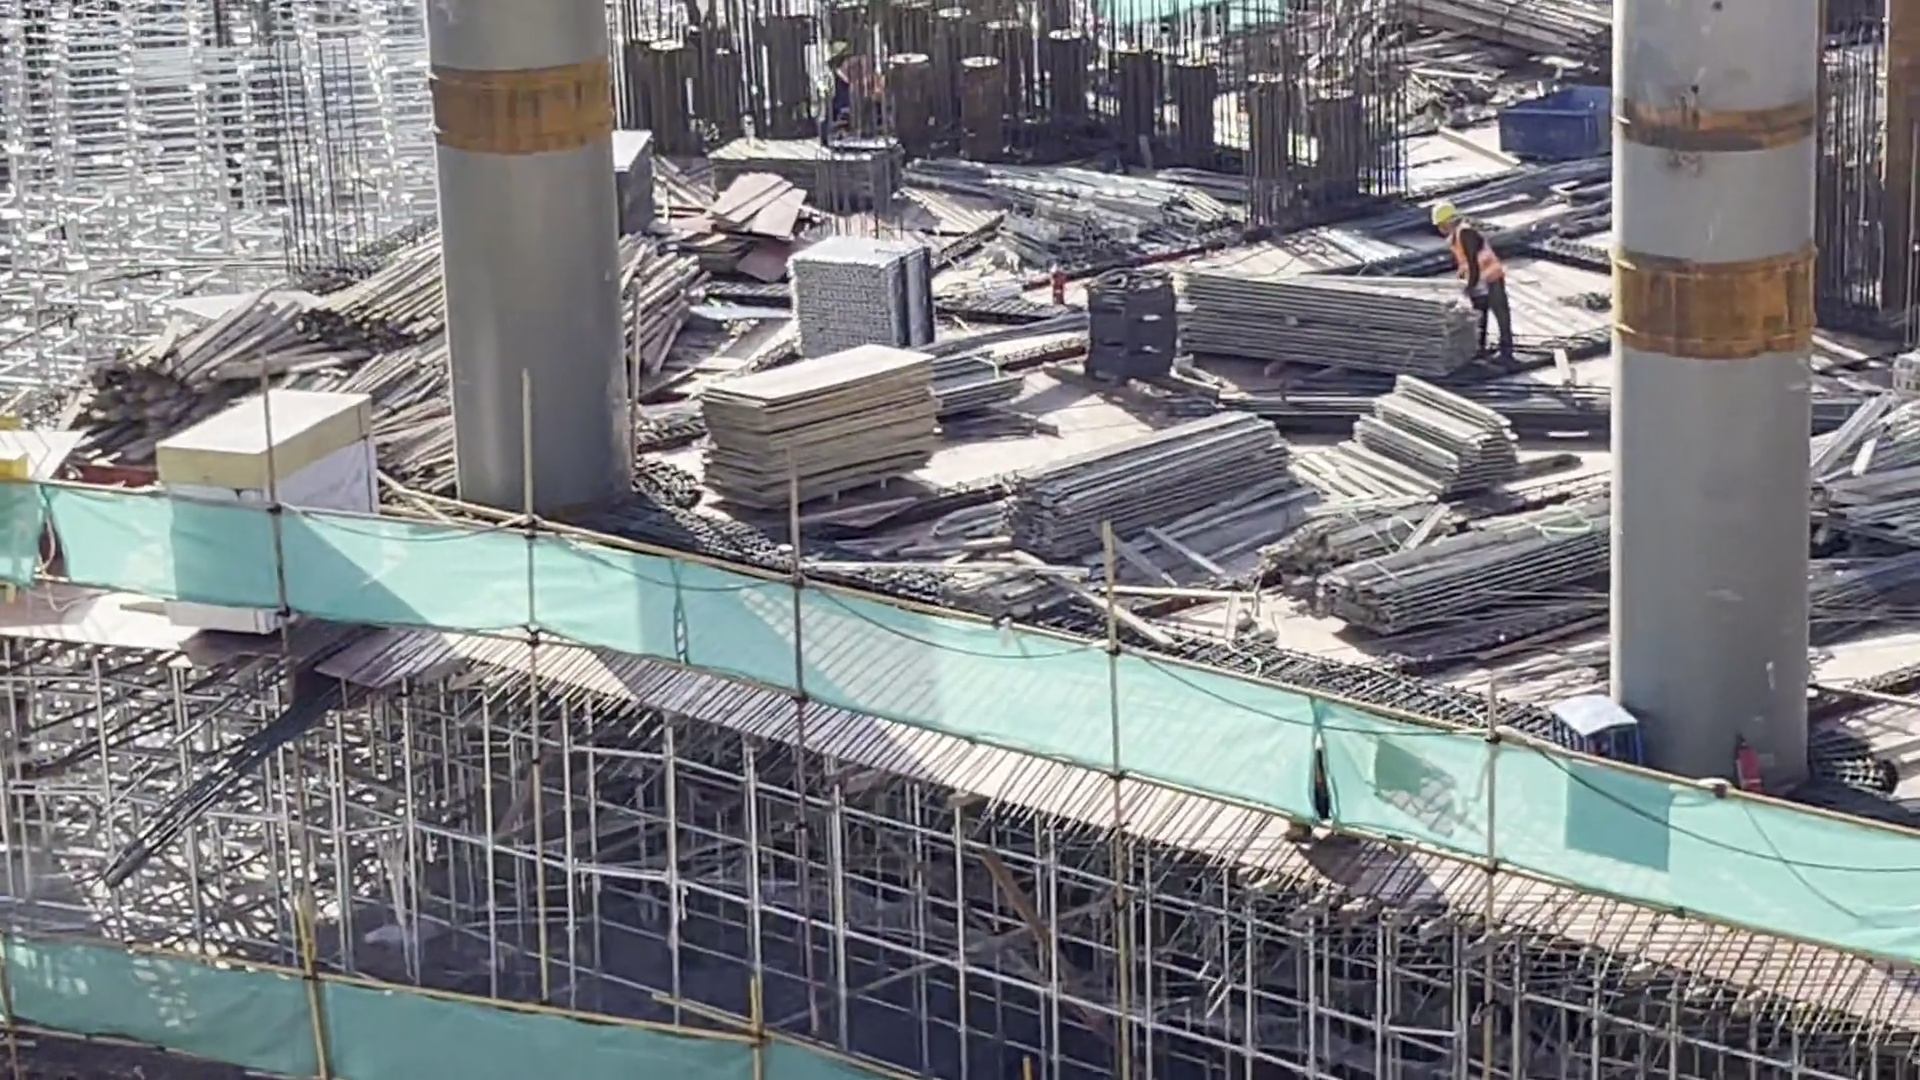board: (671, 349, 975, 539)
ebox: (145, 369, 380, 641)
helmet: (1425, 201, 1464, 226)
hopper: (1484, 58, 1621, 179)
person: (1414, 185, 1523, 380)
scaffold: (781, 223, 943, 371)
vest: (1433, 230, 1508, 298)
wood: (999, 390, 1301, 553), (1180, 250, 1484, 394), (1326, 497, 1619, 641), (1345, 368, 1518, 489)
